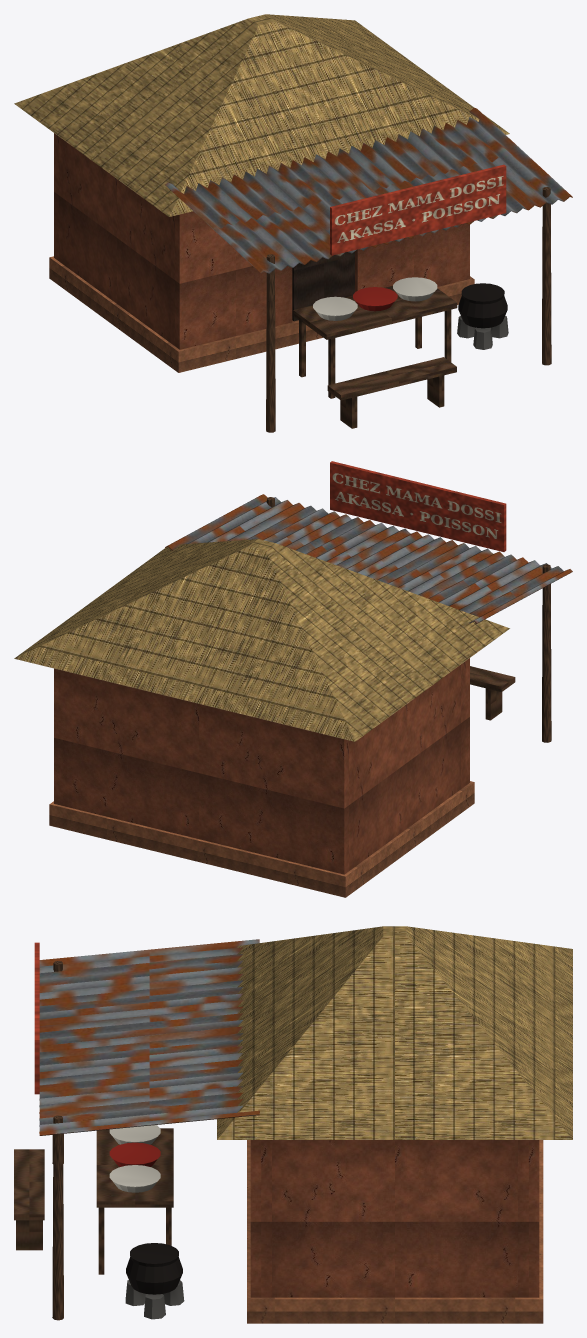
File: az-buvette.glb
The picture shows the model from 3 angles, top to bottom: view 1: azimuth 30°, elevation 25°; view 2: azimuth 150°, elevation 25°; view 3: azimuth 270°, elevation 25°; orthographic projection. The views are drawn at different scales.
Visible parts, largest first — view 1: az-buvette_az_thatch, az-buvette_az_banco, az-buvette_az_tin, az-buvette_az_wood, az-buvette_az_sign_dossi, az-buvette_az_banco2, az-buvette_az_wood_dark, az-buvette_az_char, az-buvette_az_enamel, az-buvette_az_stone, az-buvette_az_enamel_red; view 2: az-buvette_az_thatch, az-buvette_az_banco, az-buvette_az_tin, az-buvette_az_banco2, az-buvette_az_sign_dossi, az-buvette_az_wood; view 3: az-buvette_az_thatch, az-buvette_az_banco, az-buvette_az_tin, az-buvette_az_wood, az-buvette_az_banco2, az-buvette_az_char, az-buvette_az_enamel, az-buvette_az_stone, az-buvette_az_enamel_red, az-buvette_az_sign_dossi.
Boxes of the visible parts, x1,y1,x2,y2 form: az-buvette_az_thatch: (14,14,509,216); az-buvette_az_banco: (54,133,469,349); az-buvette_az_tin: (165,107,572,273); az-buvette_az_wood: (266,187,551,432); az-buvette_az_sign_dossi: (330,164,506,255); az-buvette_az_banco2: (49,256,474,372); az-buvette_az_wood_dark: (292,251,354,321); az-buvette_az_char: (458,283,507,328); az-buvette_az_enamel: (313,277,437,320); az-buvette_az_stone: (457,315,508,349); az-buvette_az_enamel_red: (353,287,397,311); az-buvette_az_thatch: (14,539,509,741); az-buvette_az_banco: (54,658,469,874); az-buvette_az_tin: (165,494,572,623); az-buvette_az_banco2: (49,781,474,897); az-buvette_az_sign_dossi: (330,461,506,551); az-buvette_az_wood: (266,497,551,742); az-buvette_az_thatch: (217,926,572,1139); az-buvette_az_banco: (250,1140,539,1297); az-buvette_az_tin: (39,939,259,1135); az-buvette_az_wood: (14,961,173,1320); az-buvette_az_banco2: (247,1140,543,1323); az-buvette_az_char: (126,1243,182,1294); az-buvette_az_enamel: (109,1125,160,1192); az-buvette_az_stone: (125,1280,184,1319); az-buvette_az_enamel_red: (109,1142,160,1166); az-buvette_az_sign_dossi: (34,942,39,1094).
Bounding box in the file's own units: 4.7 × 3.55 × 5.81.
Materials: 13 (7 with a texture image).
